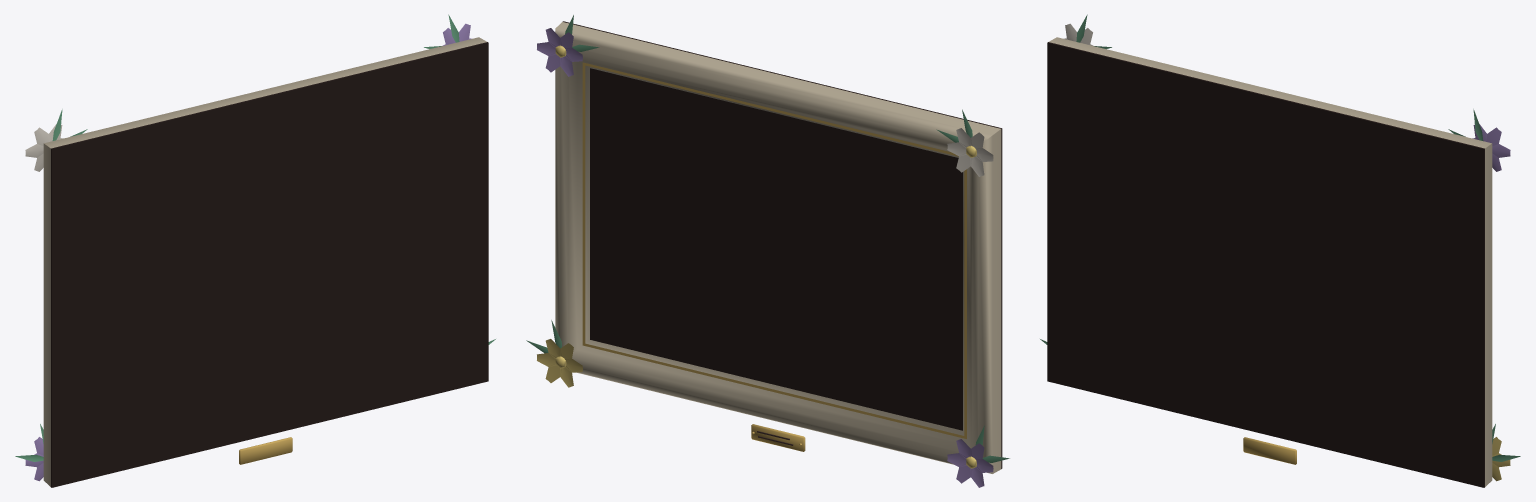
Rendered from crocus_spring_land.glb.
3 views of the same model, side by side, from view 1: azimuth 30°, elevation 25°; view 2: azimuth 150°, elevation 25°; view 3: azimuth 330°, elevation 25° (orthographic).
Parts seen in each view (by area): view 1: crocus_spring_land; view 2: crocus_spring_land; view 3: crocus_spring_land.
Part boxes in pixels (x1,y1,x2,y2): crocus_spring_land: (15, 14, 495, 487); crocus_spring_land: (526, 15, 1009, 487); crocus_spring_land: (1040, 14, 1520, 487).
Size of what is drawn, in the model's own units: 1.27 by 0.9795 by 0.0831.
